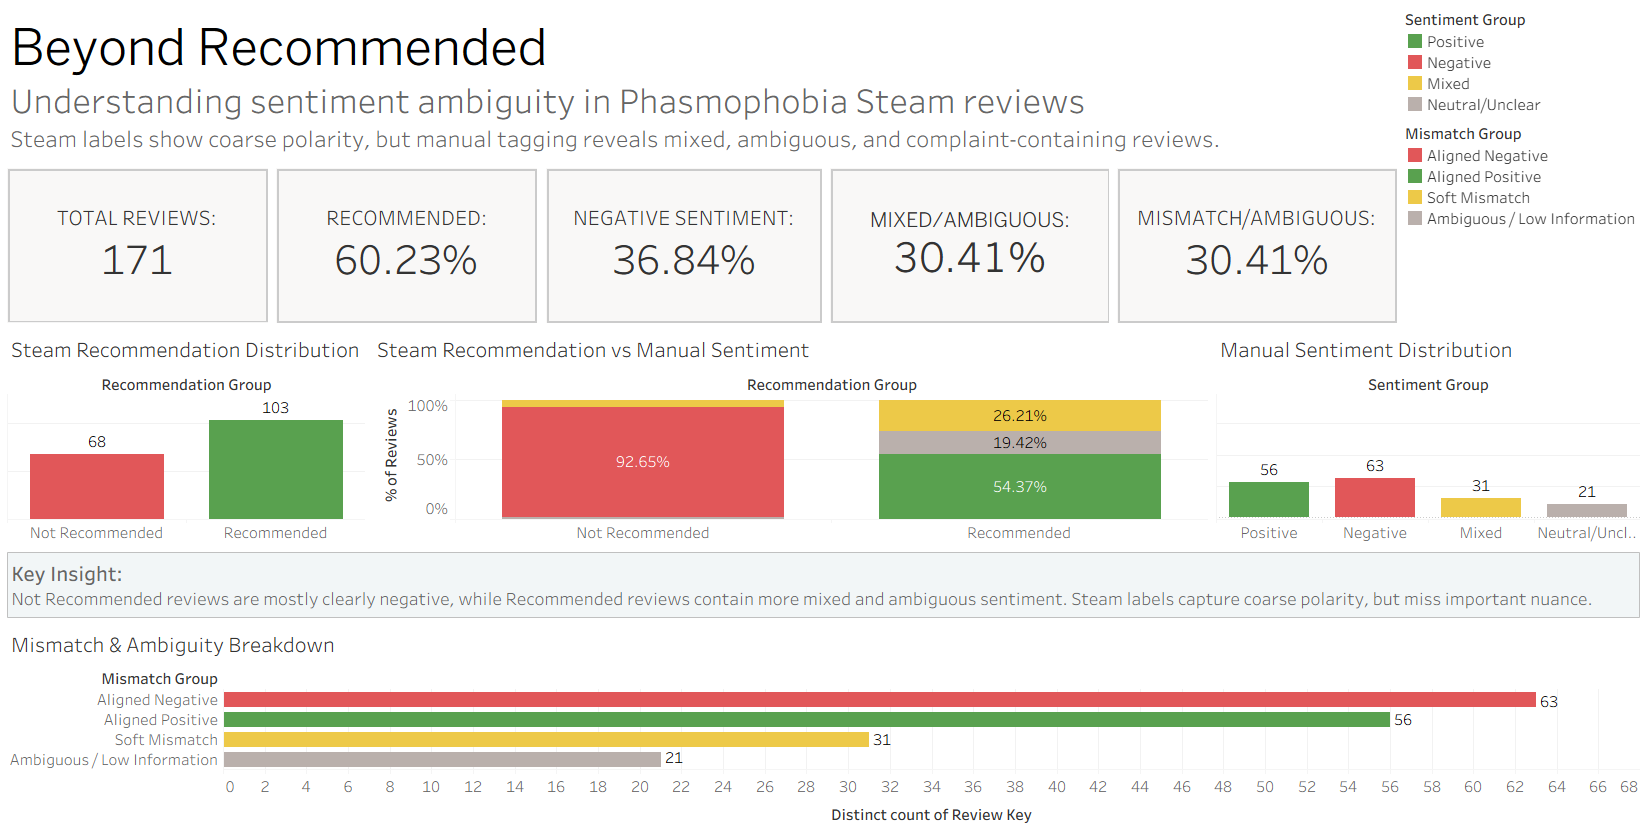

The dashboard page shown, as its layout file describes it:
{"tool":"tableau","page":{"name":"01 Executive Overview","canvas":[1000,1000],"units":"permille","ordinal":0},"visuals":[{"type":"text","box":[4.8,9.4,843.7,187]},{"type":"legend","title":"Chart Sentiment Distribution","param":"[federated.1x5f0wu08nq7uu108kq3m199u6nf].[none:sentiment_group:nk]","box":[848.5,9.4,146.7,134]},{"type":"legend","title":"Chart Mismatch Distribution","param":"[federated.1x5f0wu08nq7uu108kq3m199u6nf].[none:mismatch_group:nk]","box":[848.5,143.4,146.7,134]},{"type":"worksheet","title":"KPI Total Reviews","mark":"Automatic","box":[4.8,196.4,162.6,191.4]},{"type":"worksheet","title":"KPI Recommended %","mark":"Text","box":[167.4,196.4,162.6,191.4]},{"type":"worksheet","title":"KPI Negative %","mark":"Automatic","box":[330.1,196.4,171.2,191.4]},{"type":"worksheet","title":"KPI Mixed Ambiguous %","mark":"Automatic","box":[501.2,196.4,173.6,191.4]},{"type":"worksheet","title":"KPI Mismatch Ambiguous %","mark":"Automatic","box":[674.9,196.4,173.6,191.4]},{"type":"worksheet","title":"Chart Recommendation Distribution","mark":"Bar","rows":["review_key"],"cols":["recommendation_group"],"box":[4.8,387.8,220.9,259.7]},{"type":"worksheet","title":"Chart Recommendation vs Sentiment","mark":"Bar","cols":["recommendation_group"],"box":[225.7,387.8,508.8,259.7]},{"type":"worksheet","title":"Chart Sentiment Distribution","mark":"Bar","rows":["review_key"],"cols":["sentiment_group"],"box":[734.5,387.8,260.7,259.7]},{"type":"text","box":[4.8,647.5,990.3,87]},{"type":"worksheet","title":"Chart Mismatch Distribution","mark":"Bar","rows":["mismatch_group"],"cols":["review_key"],"box":[4.8,734.4,990.3,256.2]}]}

Visuals, with their boxes on the dashboard's canvas, which has no fixed pixel size, in thousandths of its width and height (x1, y1, x2, y2). These are canvas units, not pixel positions in the 1650x840 screenshot, which may show the page scaled, cropped or inside an application window:
text: [5,9,848,196]
"Chart Sentiment Distribution" legend: [848,9,995,143]
"Chart Mismatch Distribution" legend: [848,143,995,277]
"KPI Total Reviews" worksheet: [5,196,167,388]
"KPI Recommended %" worksheet (Text marks): [167,196,330,388]
"KPI Negative %" worksheet: [330,196,501,388]
"KPI Mixed Ambiguous %" worksheet: [501,196,675,388]
"KPI Mismatch Ambiguous %" worksheet: [675,196,848,388]
"Chart Recommendation Distribution" worksheet (Bar marks): [5,388,226,648]
"Chart Recommendation vs Sentiment" worksheet (Bar marks): [226,388,734,648]
"Chart Sentiment Distribution" worksheet (Bar marks): [734,388,995,648]
text: [5,648,995,734]
"Chart Mismatch Distribution" worksheet (Bar marks): [5,734,995,991]
